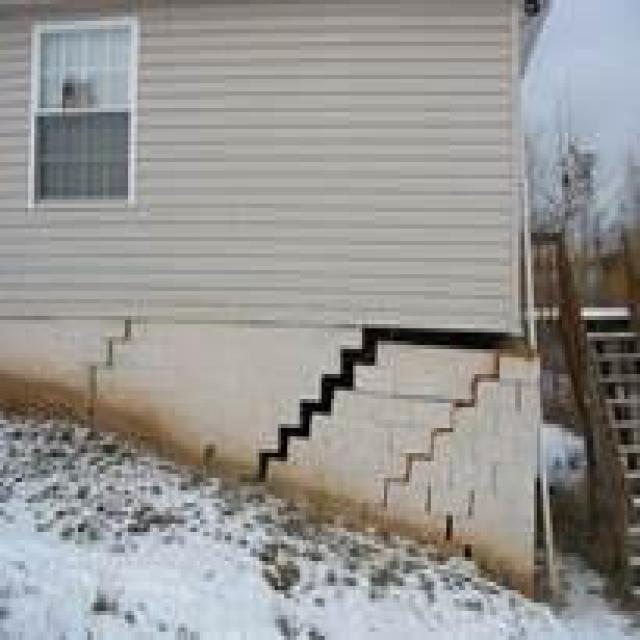House: (0, 1, 550, 603)
